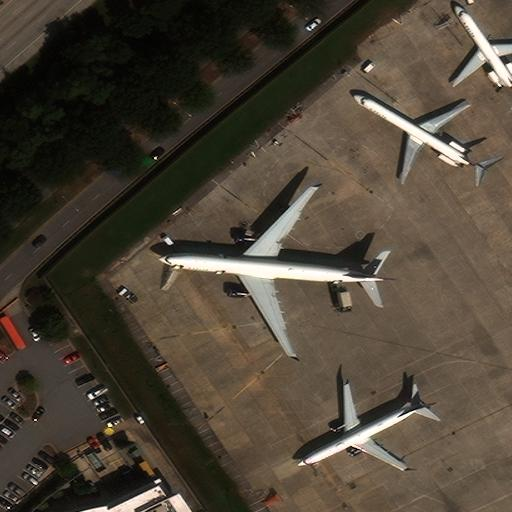Large Civil Transport: (159, 186, 391, 356)
Medium Civil Transport: (296, 382, 436, 471), (353, 94, 486, 177), (451, 5, 512, 96)
